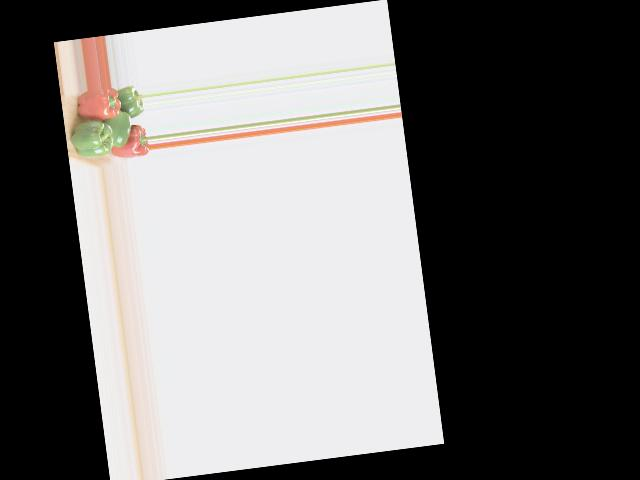bell_pepper: (71, 87, 121, 124)
